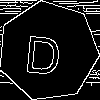D: (23, 26, 64, 75)
